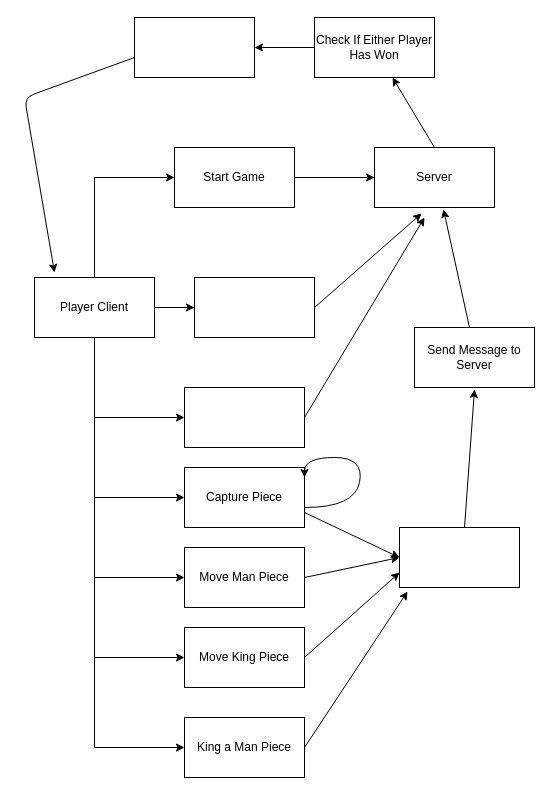
The diagram is 552 pixels wide and 795 high, and some of its shapes have lost their labels. The centre of each missing label's shape, as x and y in pixels:
"Disconnect From Server" belongs at (244,417).
"End Turn" belongs at (459,557).
"Join Game" belongs at (254,307).
"Update Client(s)" belongs at (194,47).
